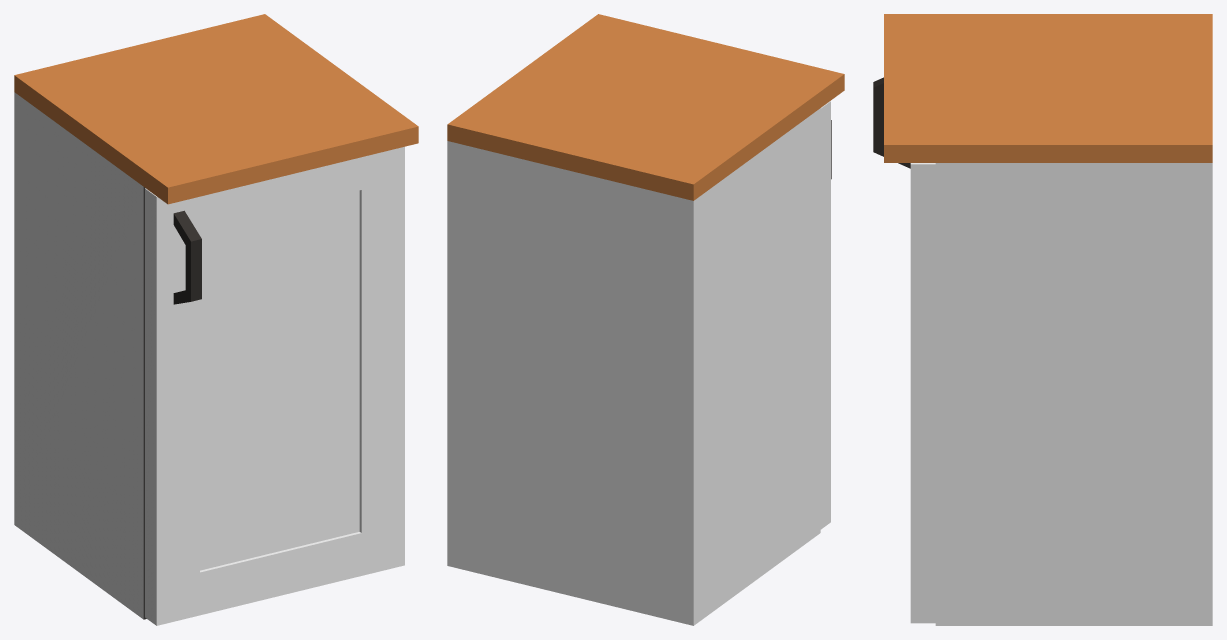
Rendered from Kitchen_Cabinet_3A.fbx.
3 views of the same model, side by side, from view 1: azimuth 30°, elevation 25°; view 2: azimuth 150°, elevation 25°; view 3: azimuth 270°, elevation 25° (orthographic). The views are drawn at different scales.
Visible parts, largest first — view 1: polySurface2145; view 2: polySurface2145; view 3: polySurface2145.
Part boxes in pixels (x1,y1,x2,y2): polySurface2145: (14, 14, 418, 625); polySurface2145: (447, 14, 844, 625); polySurface2145: (873, 14, 1212, 625).
Size of the model in its own units: 0.7792 by 1.34 by 0.8536.
1 material, 1 textured.
